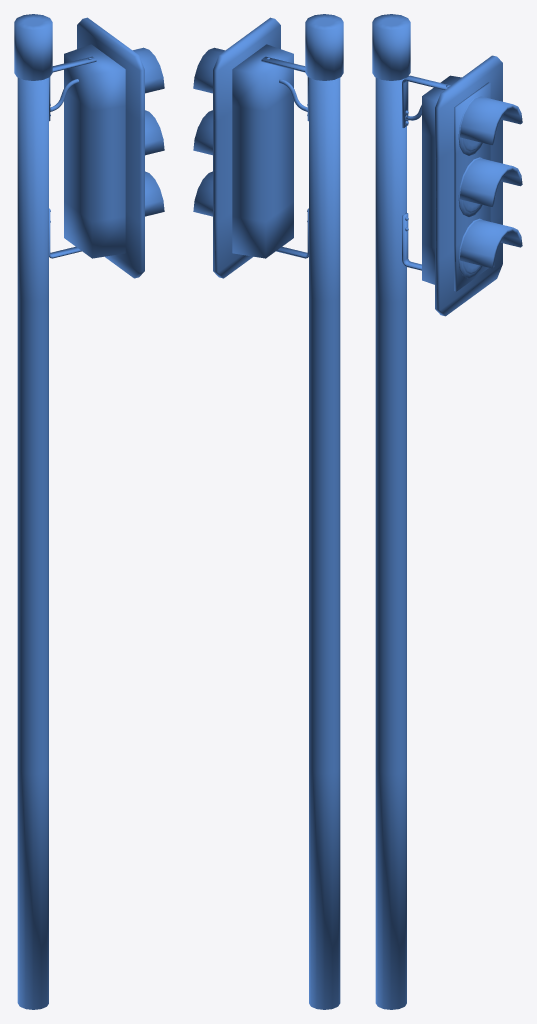
The model's file is TRAFFIC LIGHT LATEST.obj.
3 renders of one model, left to right at view 1: azimuth 30°, elevation 25°; view 2: azimuth 150°, elevation 25°; view 3: azimuth 330°, elevation 25°, orthographic.
Parts seen in each view (by area): view 1: pole_low_low_poly16, fullback_low_low_poly01, back_low_low_poly00, poletop_low_low_poly21, cover_low_low_poly20, bracket_low_low_poly03; view 2: pole_low_low_poly16, fullback_low_low_poly01, back_low_low_poly00, poletop_low_low_poly21, cover_low_low_poly20, bracket_low_low_poly03; view 3: pole_low_low_poly16, back_low_low_poly00, cover_low_low_poly20, base_low_low_poly02, fullback_low_low_poly01, poletop_low_low_poly21, bracket_low_low_poly03.
Boxes of the visible parts, box(x1,y1,x2,y2) form: pole_low_low_poly16: box(17, 77, 48, 1009); fullback_low_low_poly01: box(64, 44, 125, 258); back_low_low_poly00: box(77, 17, 144, 278); poletop_low_low_poly21: box(14, 14, 52, 80); cover_low_low_poly20: box(133, 47, 164, 216); bracket_low_low_poly03: box(49, 56, 96, 258); pole_low_low_poly16: box(309, 77, 340, 1009); fullback_low_low_poly01: box(232, 44, 293, 258); back_low_low_poly00: box(213, 17, 280, 278); poletop_low_low_poly21: box(305, 14, 343, 80); cover_low_low_poly20: box(193, 47, 224, 216); bracket_low_low_poly03: box(261, 56, 308, 258); pole_low_low_poly16: box(375, 77, 406, 1009); back_low_low_poly00: box(435, 55, 502, 316); cover_low_low_poly20: box(459, 96, 522, 268); base_low_low_poly02: box(454, 82, 490, 291); fullback_low_low_poly01: box(422, 75, 461, 284); poletop_low_low_poly21: box(372, 14, 410, 80); bracket_low_low_poly03: box(402, 75, 450, 270).
Bounding box in the file's own units: 16.88 × 119 × 13.85.
